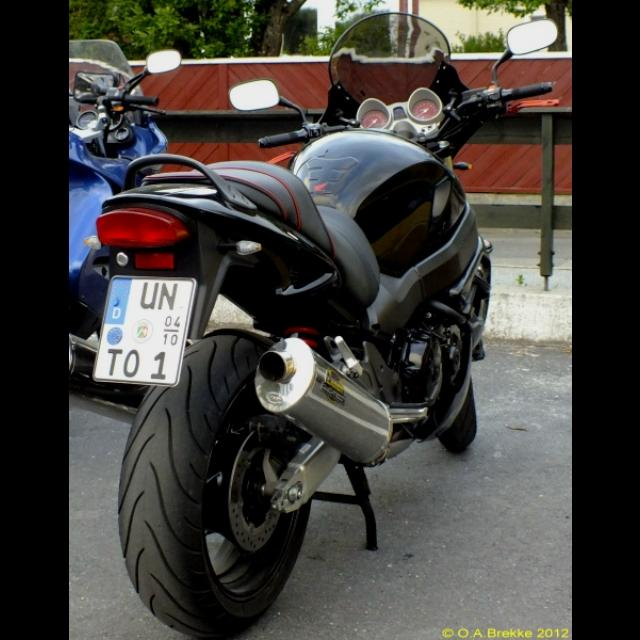d_license_plate: (93, 276, 191, 382)
